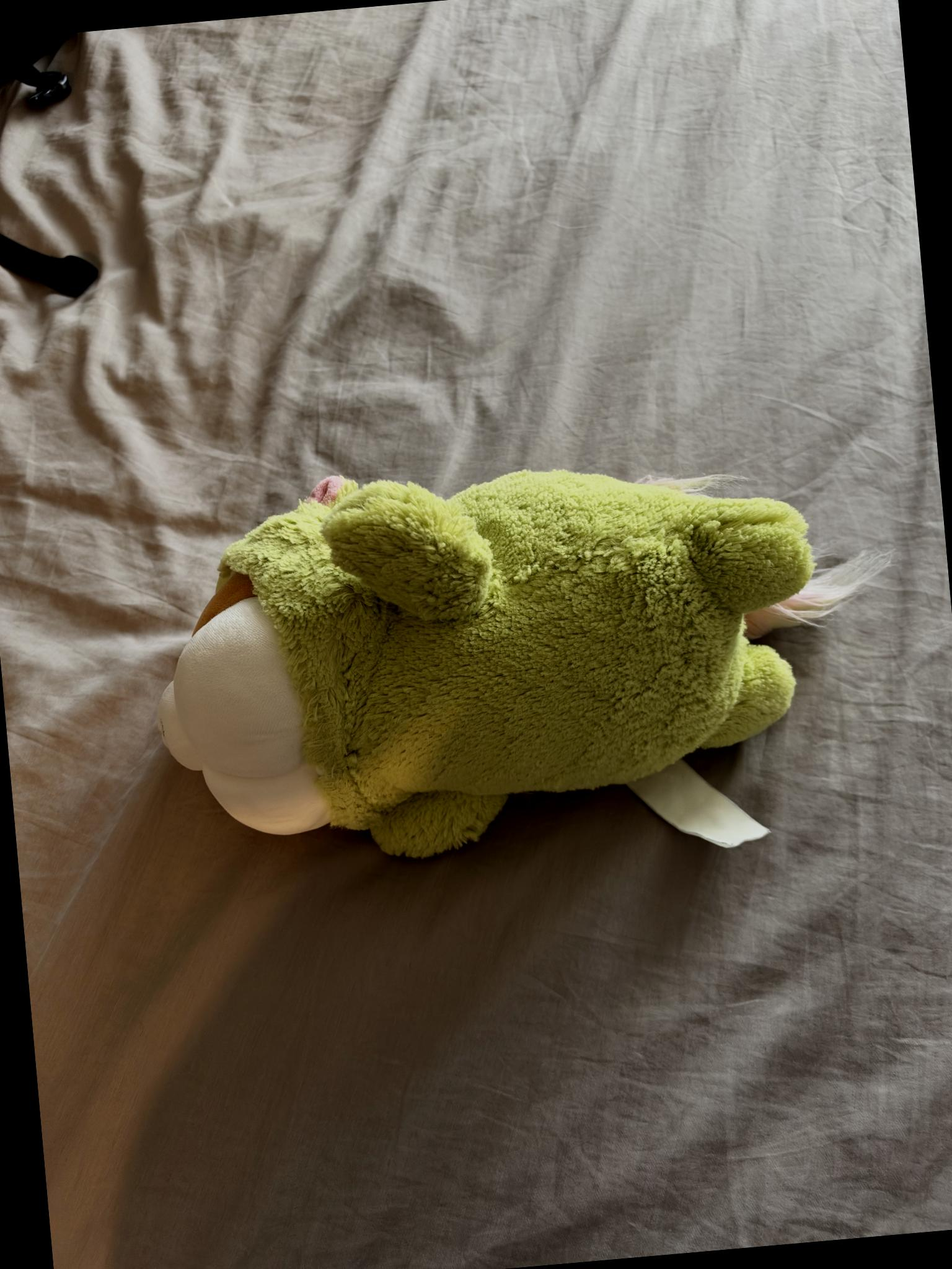peluche_martin: (134, 424, 917, 885)
